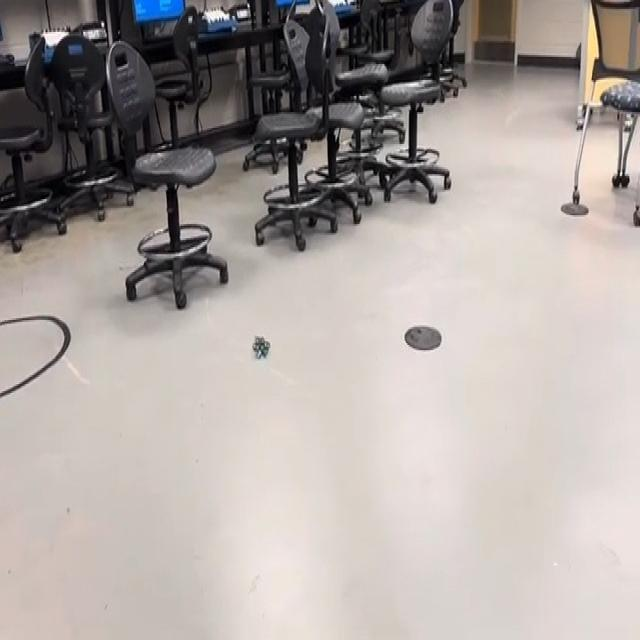drone: (244, 319, 279, 373)
